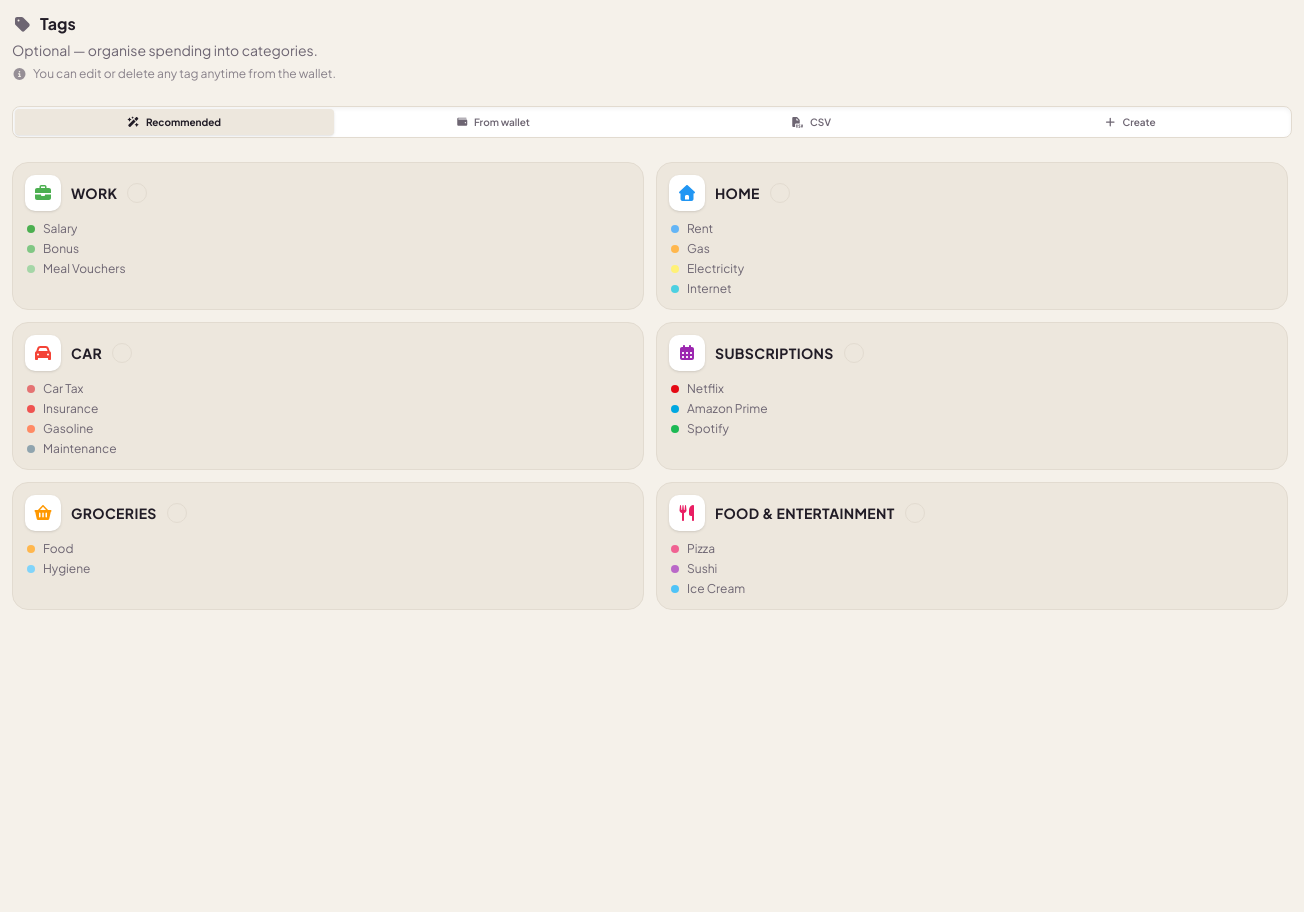
TagsStep — recommended categories › badges a recommended category with its origin in the staged tree
The width and height of the screenshot is (1304, 912).
Step 1. Click the button with aria-label "select the work category" → (43, 193), box [12,162,644,310]
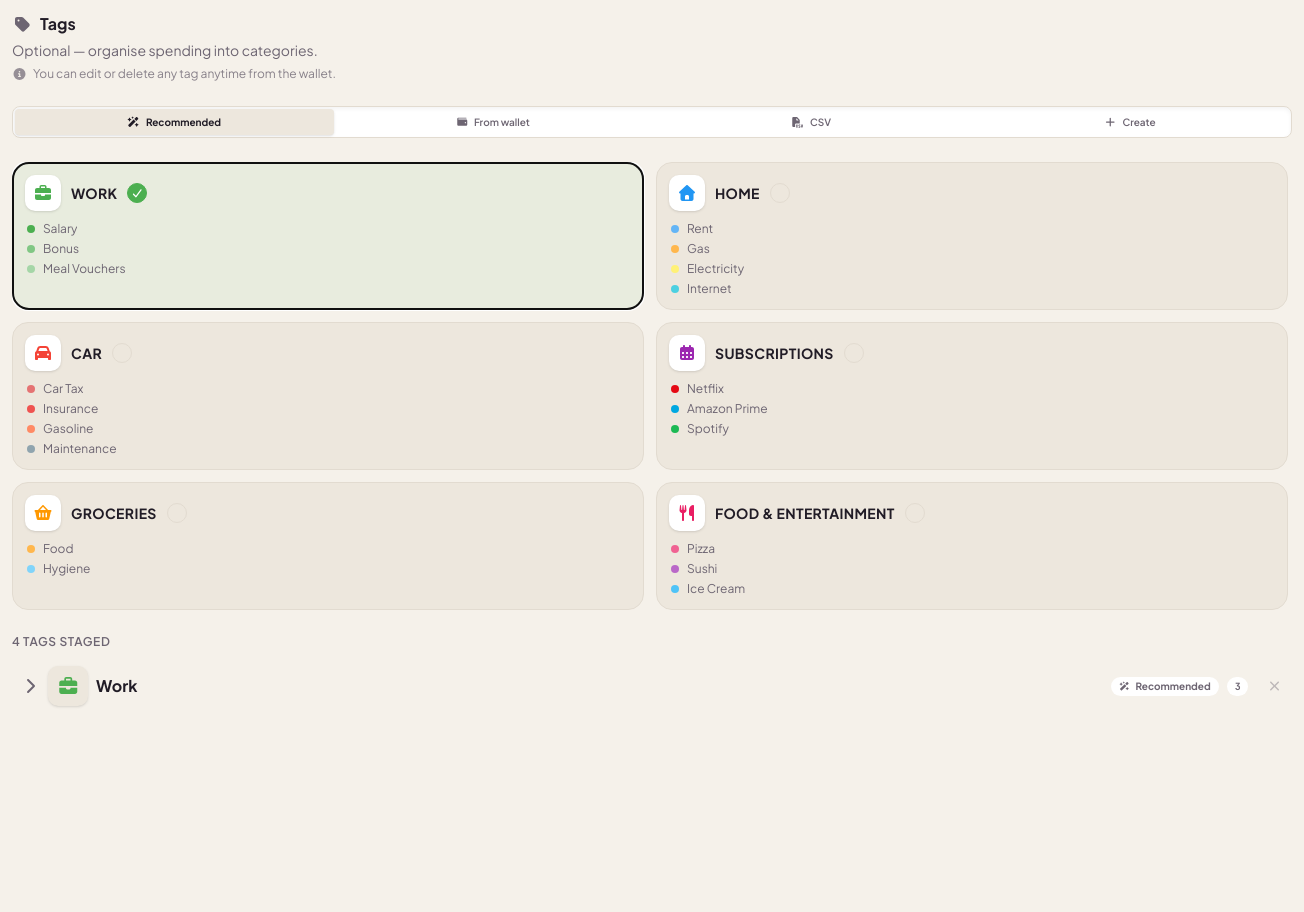
Expected: the text "Recommended" is shown, [1111,676,1219,696]
